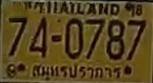0: (64, 17, 82, 58)
4: (28, 16, 46, 57)
7: (85, 18, 104, 58), (8, 16, 27, 55), (127, 19, 145, 60)
8: (106, 19, 124, 59)
SPK: (31, 60, 123, 81)
